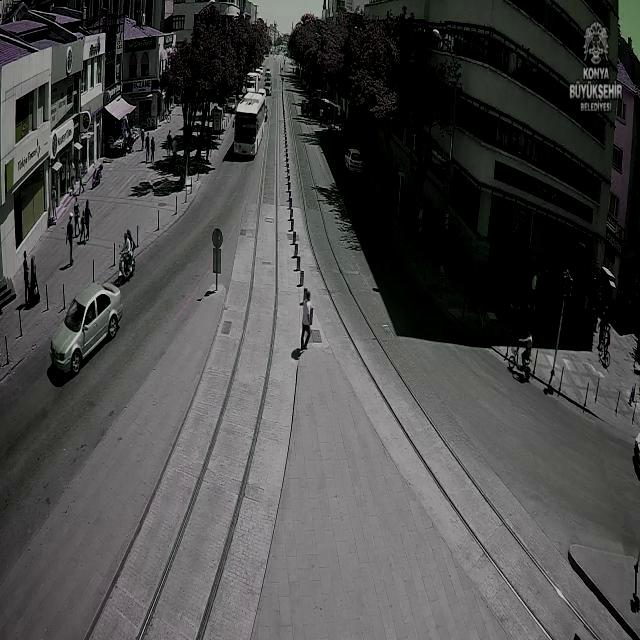Bus: (231, 90, 267, 159)
Car: (49, 283, 122, 377), (344, 148, 365, 176), (263, 79, 273, 96), (264, 68, 272, 76)
Cycle: (508, 336, 536, 381), (118, 244, 138, 278)
Truck: (245, 72, 260, 92)
